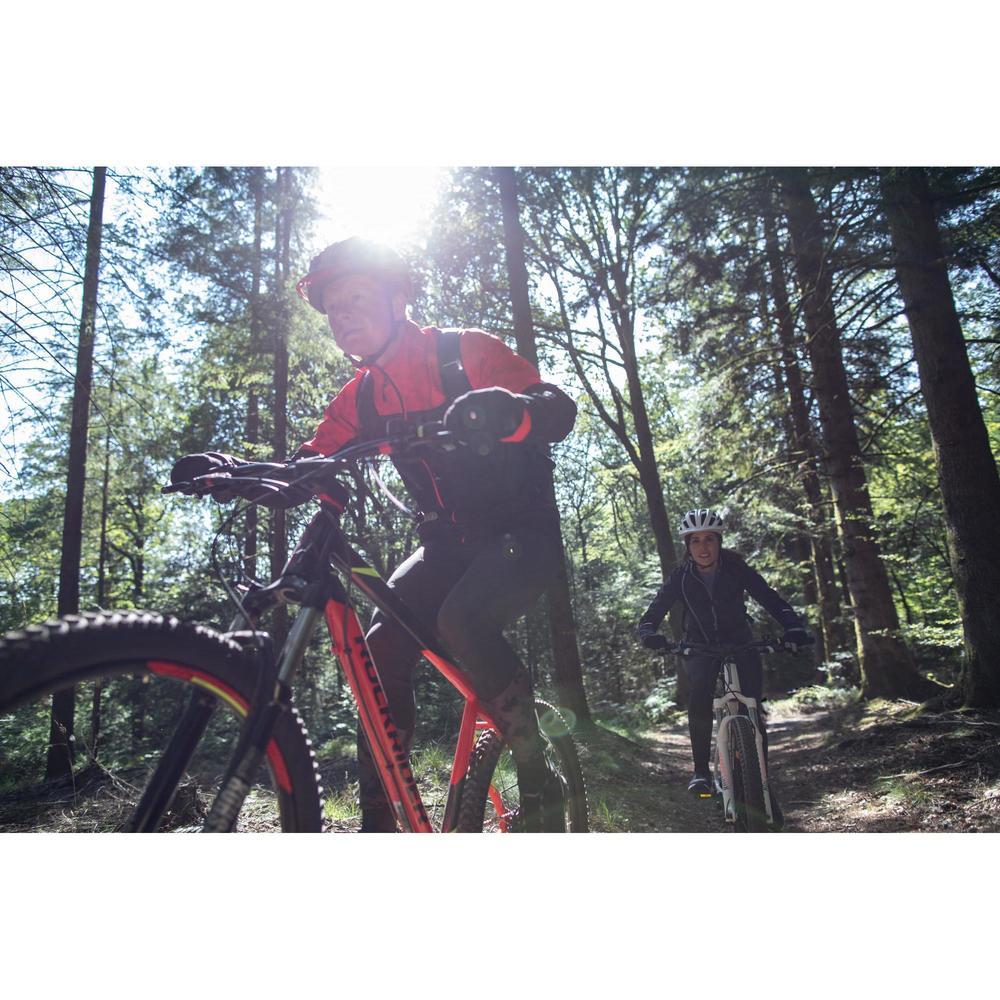MountainBike: (0, 462, 578, 847), (634, 610, 822, 834)
